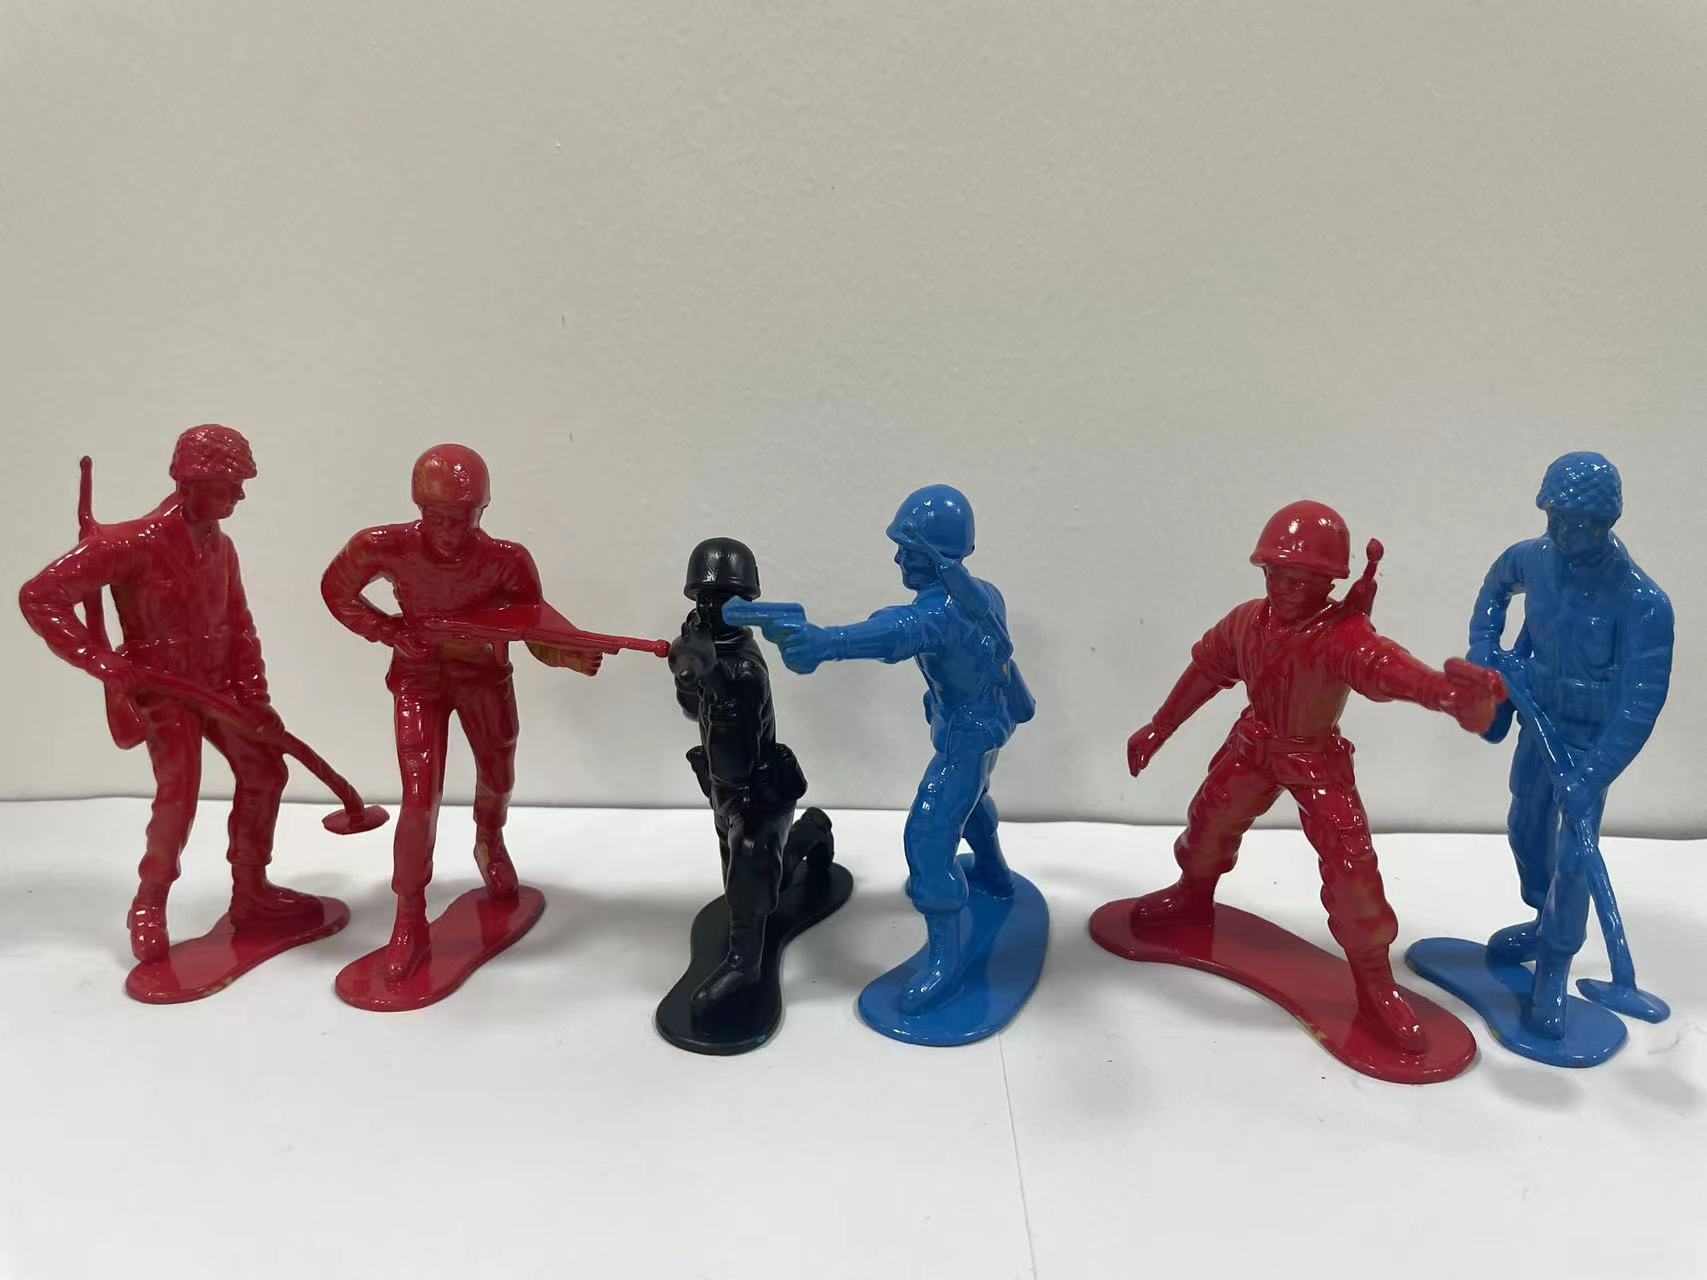black: (655, 496, 847, 1077)
blue: (1449, 430, 1695, 1146), (810, 445, 1071, 1080)
red: (1089, 479, 1476, 1107), (17, 398, 353, 1033), (325, 418, 637, 1026)
